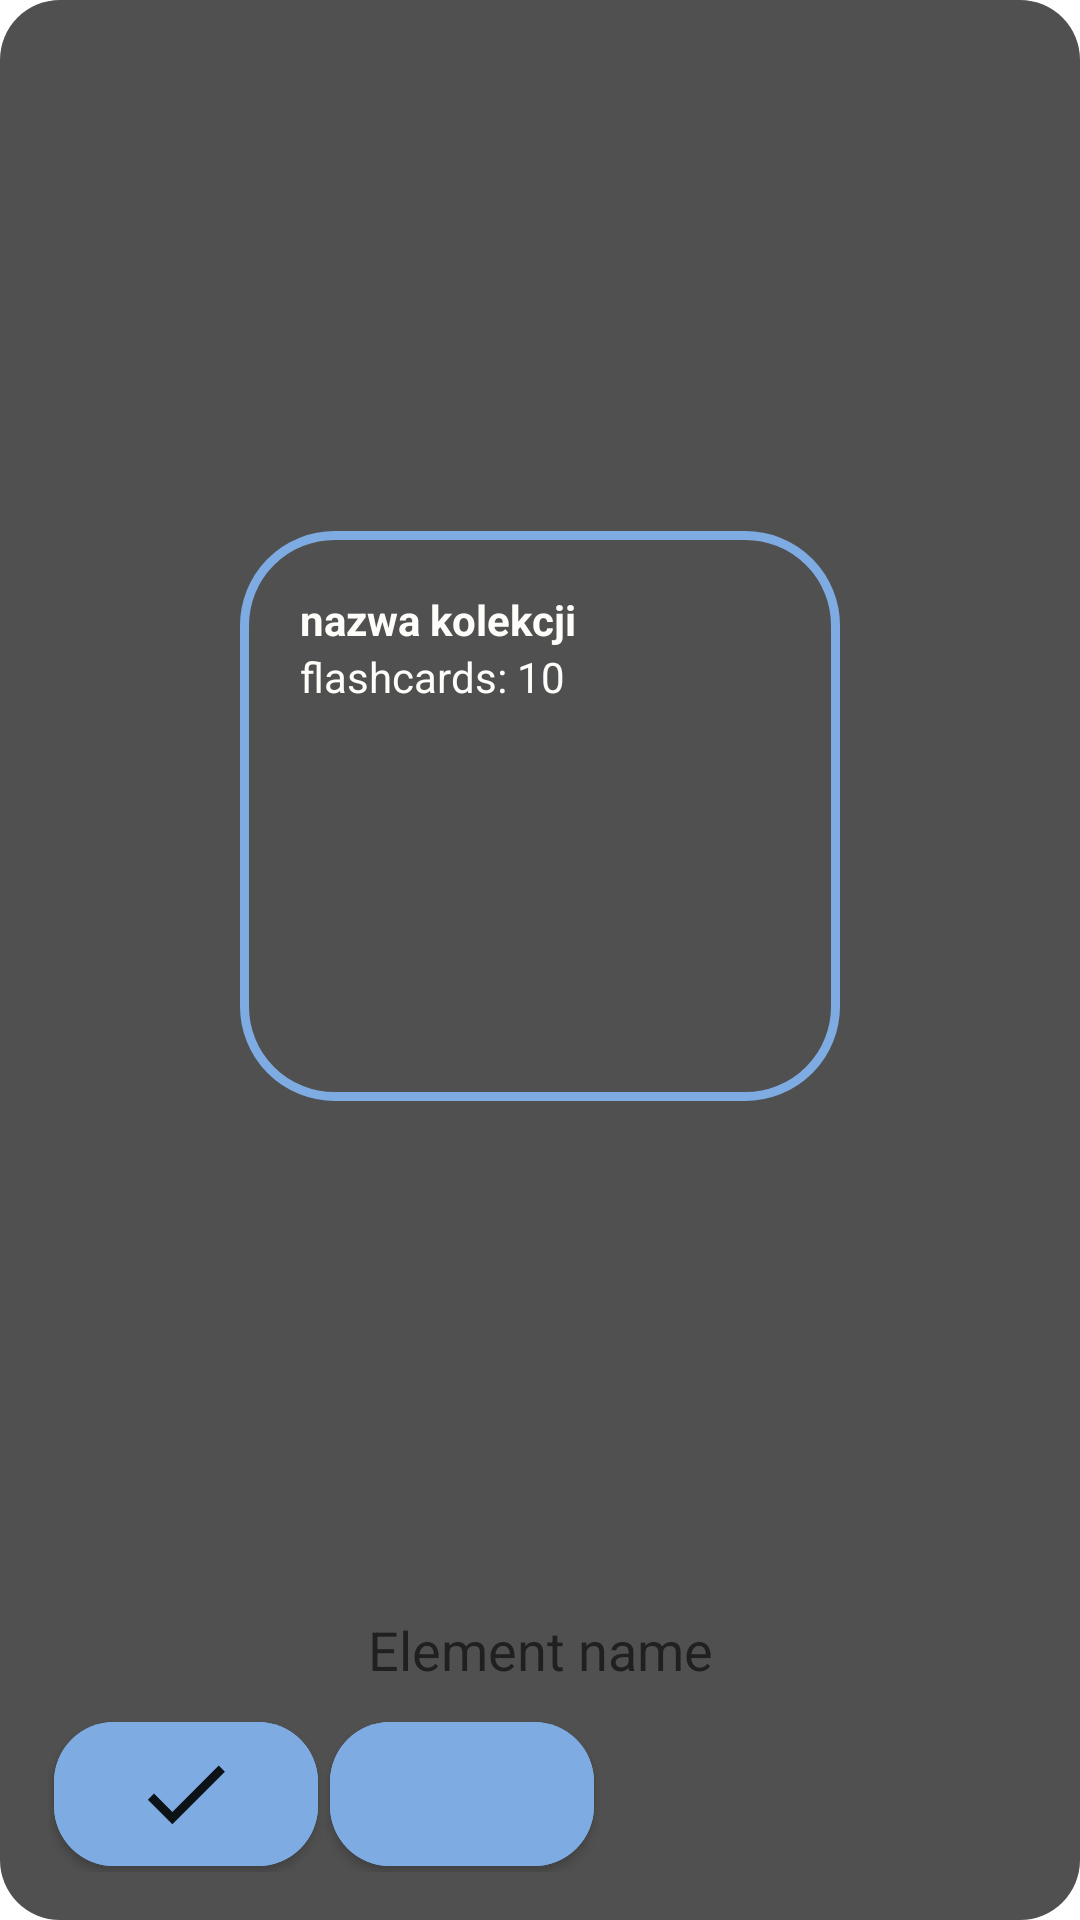

Icon bounding boxes for this 1080×1920 phone screenshot, format (x1, y1, x2, y2):
done: (54, 1722, 318, 1866)
